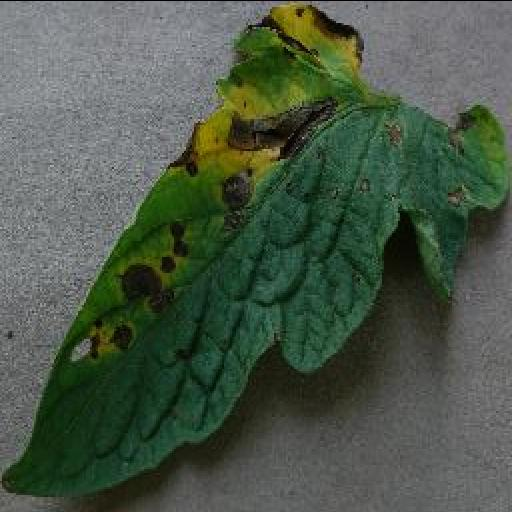disease_tomato: (2, 0, 512, 502)
